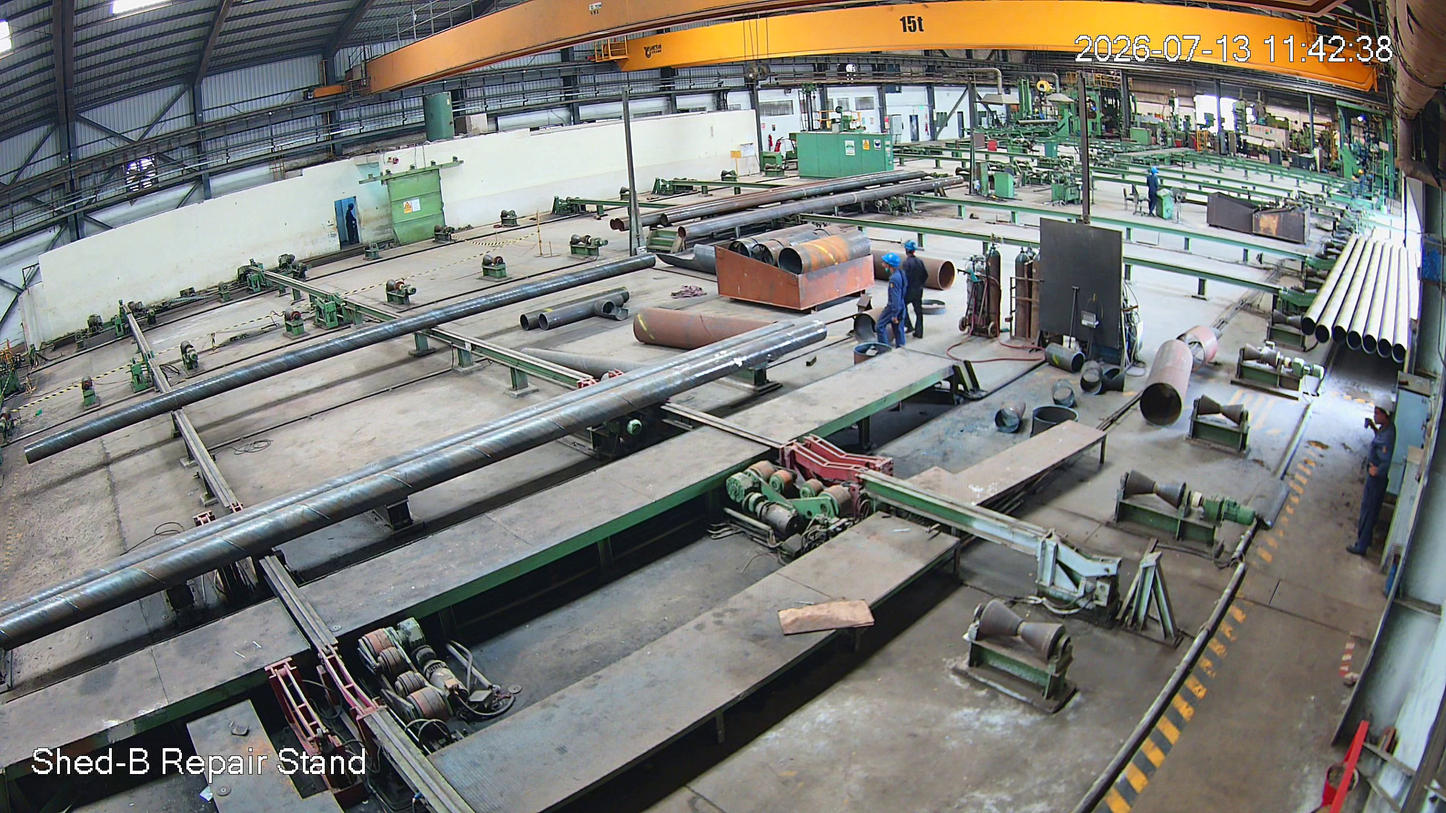Helmet: (1368, 391, 1395, 426), (881, 253, 902, 276), (902, 240, 920, 260)
Person: (1343, 395, 1399, 561), (900, 241, 927, 334), (879, 255, 903, 348)
